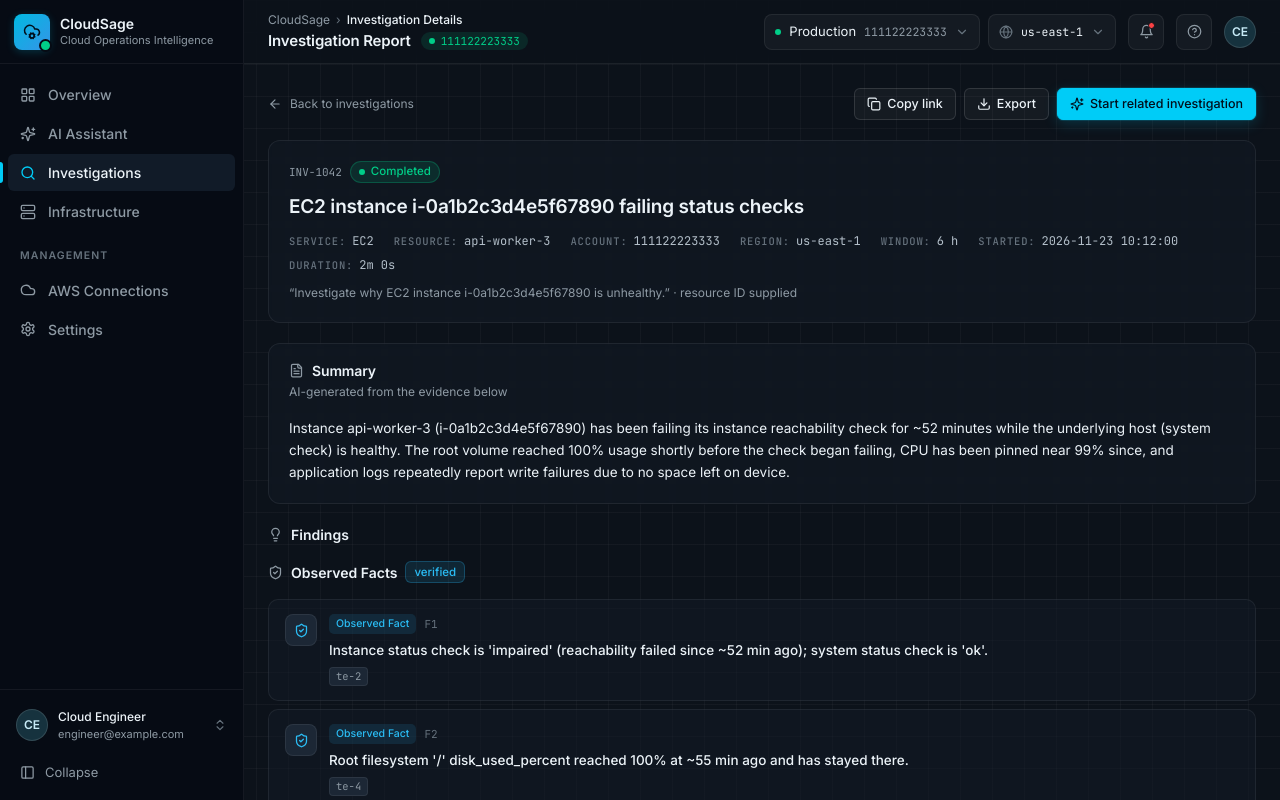
Test: pages › investigation details separate facts, hypotheses and recommendations, linked to evidence
Expected: the text "Observed Facts" is shown, [291,564,397,581]
Expected: the text "Input" is not shown
Click the button "te-2". click: (349, 676)
box: [329,666,368,686]
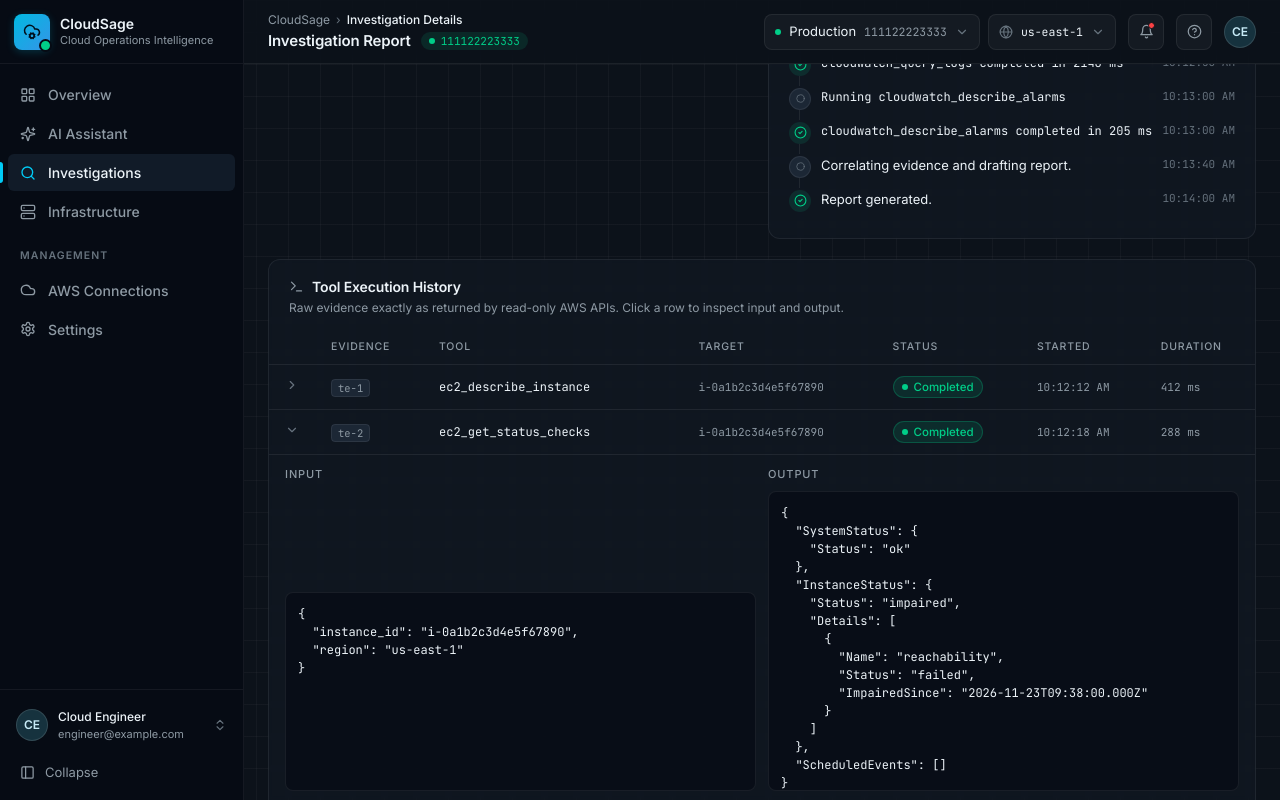
Expected: the text "Input" is shown, [285,467,323,481]
Expected: the text "\"impaired\"" is shown, [781,505,1148,791]
